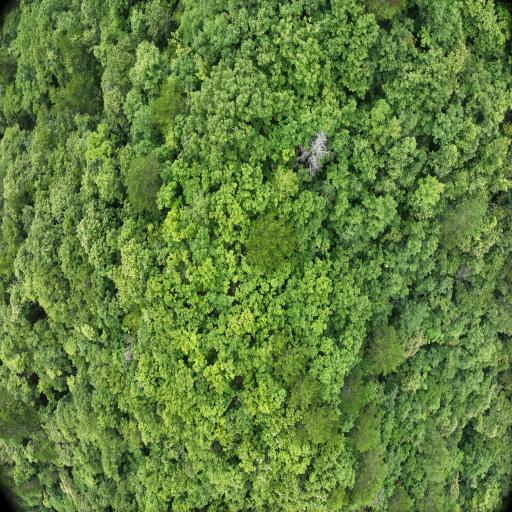dead-tree: (302, 138, 325, 167)
